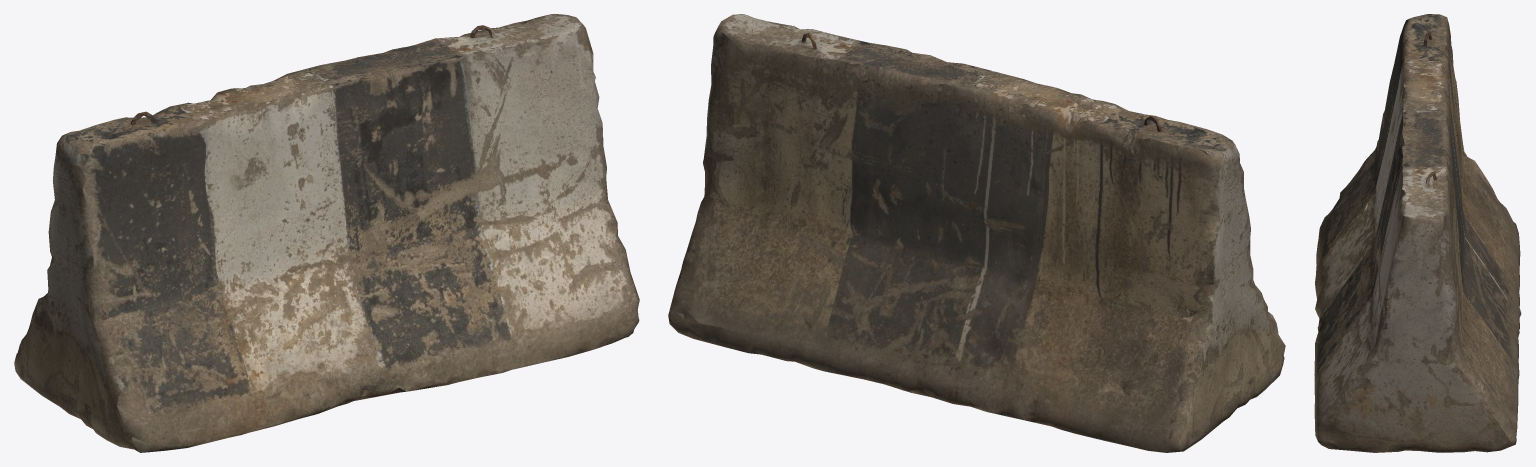
Rendered from concrete_road_barrier.glb.
3 renders of one model, left to right at view 1: azimuth 30°, elevation 25°; view 2: azimuth 150°, elevation 25°; view 3: azimuth 270°, elevation 25°, orthographic. The views are drawn at different scales.
Parts seen in each view (by area): view 1: concrete_road_barrier; view 2: concrete_road_barrier; view 3: concrete_road_barrier.
Part boxes in pixels (bbox=[...]): concrete_road_barrier: bbox=[14, 14, 639, 452]; concrete_road_barrier: bbox=[668, 14, 1285, 452]; concrete_road_barrier: bbox=[1314, 14, 1521, 452].
Size of the model in its own units: 1.54 by 0.8328 by 0.6356.
1 material, 1 textured.
